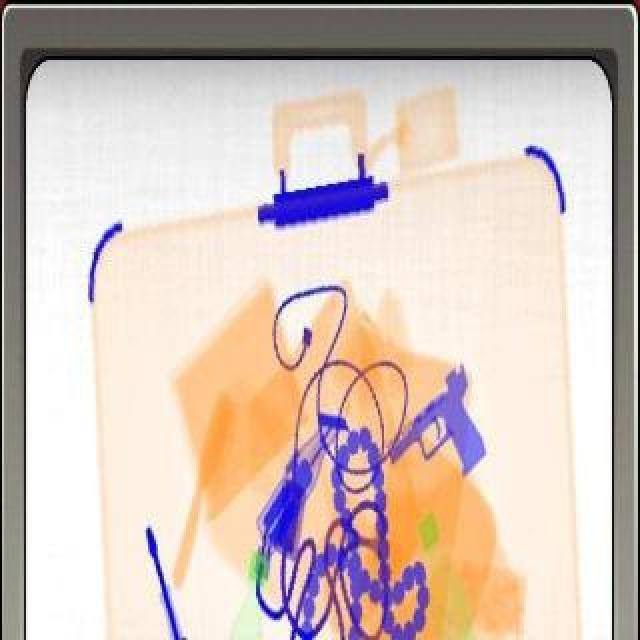gun: (388, 364, 488, 482)
